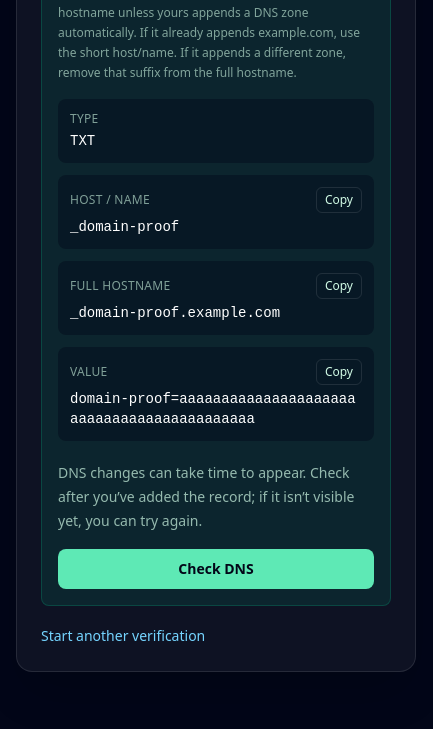
Test: App › shows how long to wait when DNS checks are rate limited
(page scrolled)
Click the button "Check DNS" at (216,569), box [58,549,374,589]
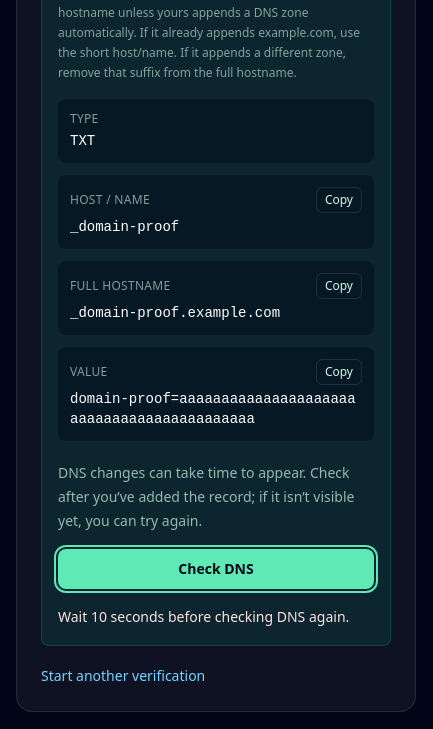
Expected: the message reads "Wait 10 seconds before checking DNS again.", [58,607,349,626]
